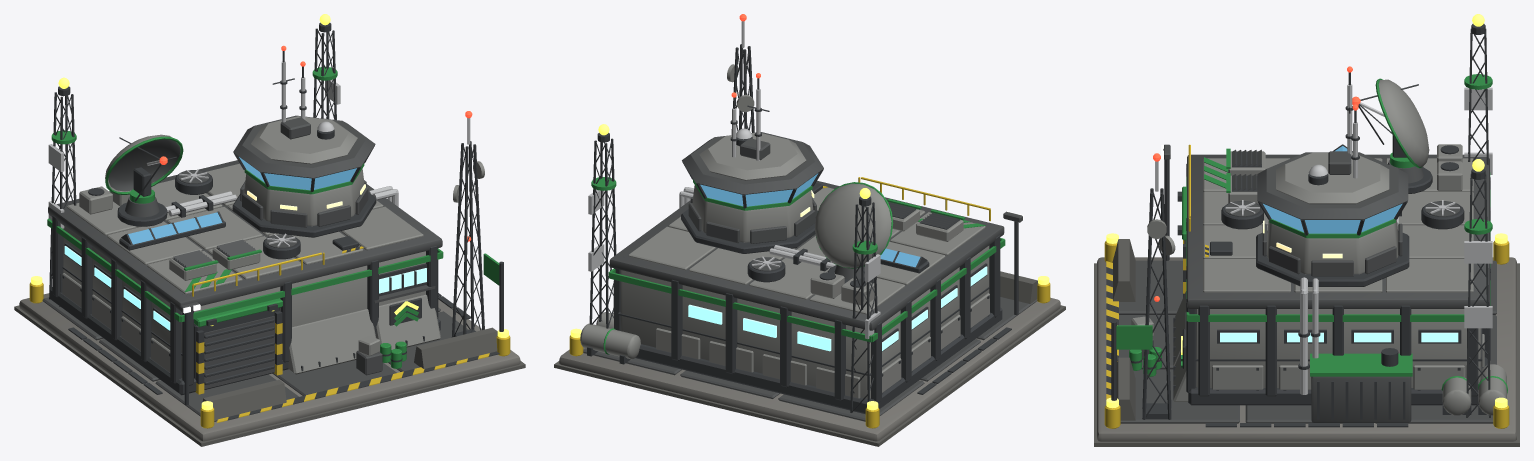
3 views of the same model, side by side, from view 1: azimuth 30°, elevation 25°; view 2: azimuth 150°, elevation 25°; view 3: azimuth 270°, elevation 25° (orthographic). The views are drawn at different scales.
Parts seen in each view (by area): view 1: CommandCenter_Walls, CommandCenter_Details, CommandCenter_Foundation, CommandCenter_Frame, CommandCenter_spin; view 2: CommandCenter_Walls, CommandCenter_Details, CommandCenter_Foundation, CommandCenter_Frame, CommandCenter_spin; view 3: CommandCenter_Walls, CommandCenter_Details, CommandCenter_Foundation, CommandCenter_Frame, CommandCenter_spin.
Boxes of the visible parts, box(x1,y1,x2,y2) form: CommandCenter_Walls: box(47, 115, 443, 389); CommandCenter_Details: box(48, 14, 503, 420); CommandCenter_Foundation: box(14, 276, 525, 446); CommandCenter_Frame: box(50, 141, 484, 395); CommandCenter_spin: box(105, 134, 183, 203); CommandCenter_Walls: box(608, 132, 1005, 398); CommandCenter_Details: box(580, 14, 1038, 412); CommandCenter_Foundation: box(554, 276, 1065, 446); CommandCenter_Frame: box(614, 44, 1002, 414); CommandCenter_spin: box(814, 182, 893, 268); CommandCenter_Walls: box(1173, 152, 1490, 401); CommandCenter_Details: box(1111, 14, 1507, 422); CommandCenter_Foundation: box(1094, 233, 1519, 446); CommandCenter_Frame: box(1142, 164, 1490, 419); CommandCenter_spin: box(1352, 78, 1429, 168).
Bounding box in the file's own units: 2.98 × 2.38 × 2.98.
